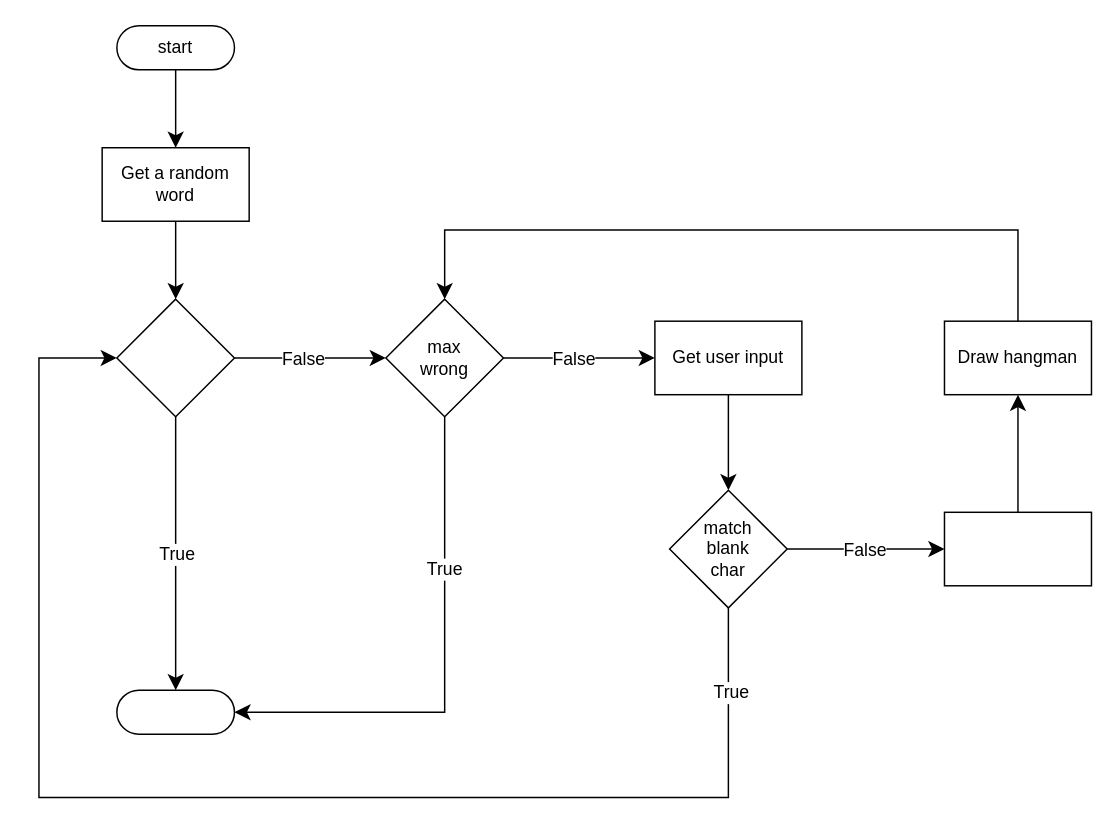
Some shapes in this 1117 by 838 pixel diagram are drawn without their labels. The shapes that lost their labels are listed below. From the top down, each one's box as (x1, y1, x2, y2) in pixels, then its label:
(115, 298, 234, 417): guessed
(943, 511, 1091, 586): Increase wrong counter
(115, 689, 234, 734): end
